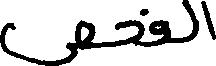X: (0, 15, 93, 65), (118, 5, 141, 50), (183, 0, 197, 47), (149, 15, 167, 51), (203, 0, 215, 44)
